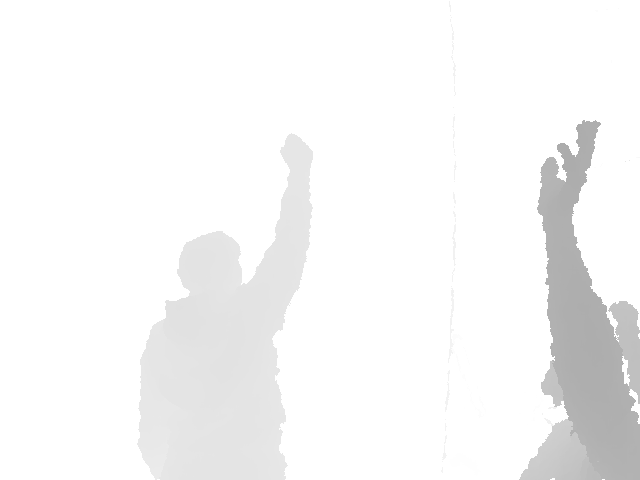hand: (534, 120, 599, 220), (279, 132, 314, 181)
head: (542, 300, 640, 405), (177, 230, 242, 295)
person: (137, 132, 315, 480), (514, 120, 640, 480)
